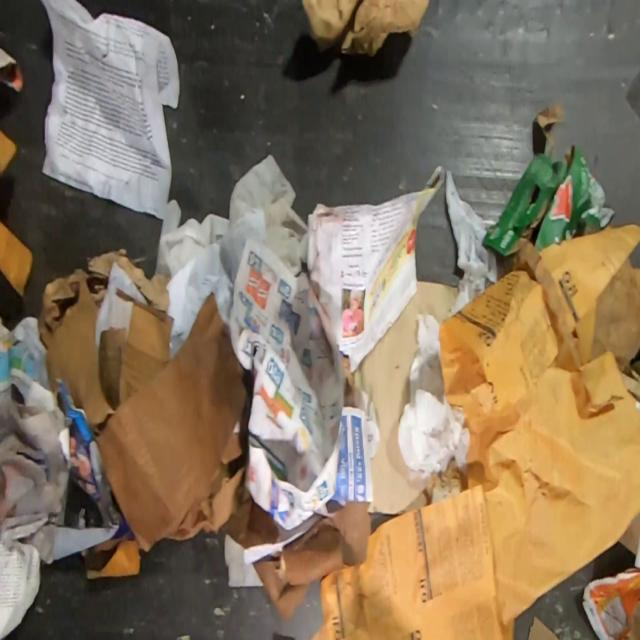cardboard: (93, 291, 281, 552), (354, 280, 458, 515), (44, 260, 175, 436), (480, 101, 617, 258), (251, 500, 373, 622), (300, 0, 431, 57), (591, 256, 640, 371), (616, 508, 640, 556), (622, 358, 640, 403)
